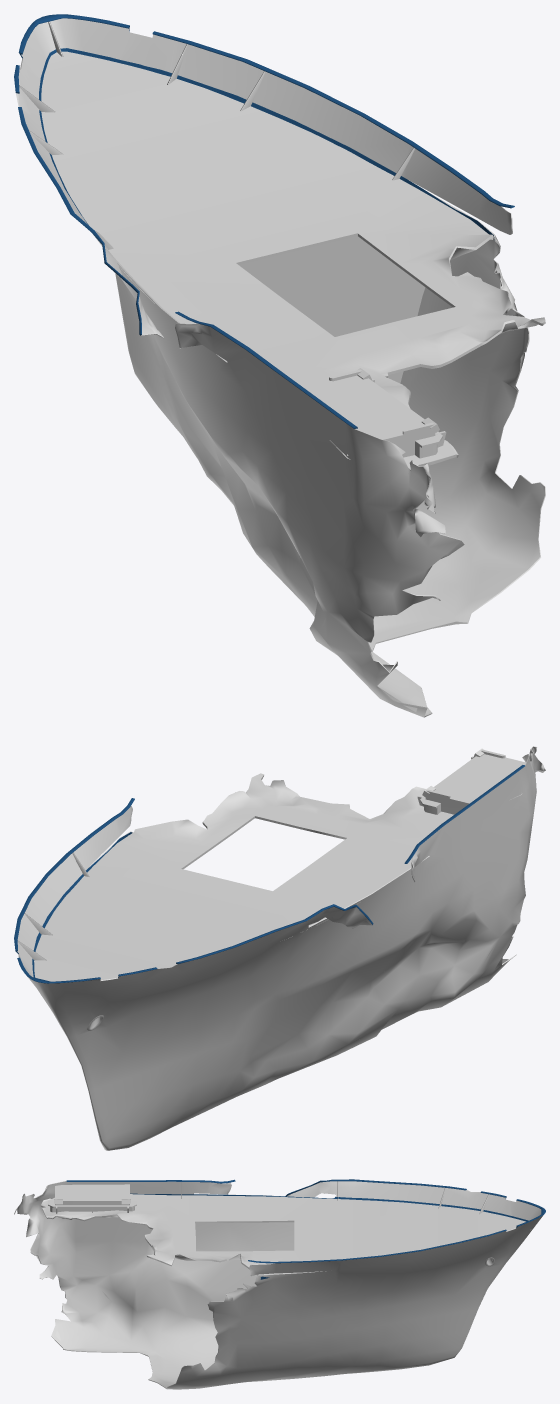
File: SM_M_Props_NavalBattle_Ship_01a_ATLAS.fbx
The picture shows the model from 3 angles, top to bottom: view 1: azimuth 30°, elevation 25°; view 2: azimuth 150°, elevation 25°; view 3: azimuth 270°, elevation 25°; orthographic projection. The views are drawn at different scales.
Visible parts, largest first — view 1: SM_M_Props_NavalBattle_Ship_01a_ATLAS; view 2: SM_M_Props_NavalBattle_Ship_01a_ATLAS; view 3: SM_M_Props_NavalBattle_Ship_01a_ATLAS.
Part boxes in pixels (bbox=[...]): SM_M_Props_NavalBattle_Ship_01a_ATLAS: bbox=[14, 14, 545, 717]; SM_M_Props_NavalBattle_Ship_01a_ATLAS: bbox=[14, 746, 545, 1150]; SM_M_Props_NavalBattle_Ship_01a_ATLAS: bbox=[14, 1179, 545, 1389].
Size of the model in its own units: 1315 by 3377 by 1143.
